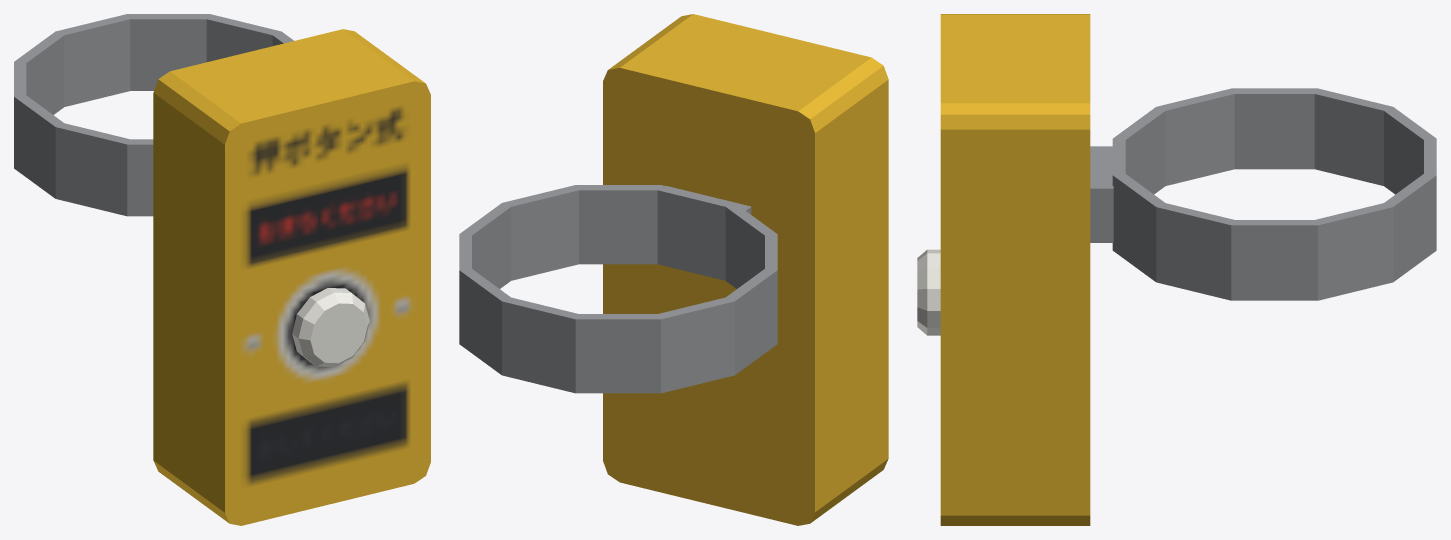
The model's file is SM_Street_PushButton_01.fbx.
3 renders of one model, left to right at view 1: azimuth 30°, elevation 25°; view 2: azimuth 150°, elevation 25°; view 3: azimuth 270°, elevation 25°, orthographic. The views are drawn at different scales.
Parts seen in each view (by area): view 1: SM_Street_PushButton_01; view 2: SM_Street_PushButton_01; view 3: SM_Street_PushButton_01.
Boxes of the visible parts, x1,y1,x2,y2 form: SM_Street_PushButton_01: (14,14,430,525); SM_Street_PushButton_01: (459,14,888,525); SM_Street_PushButton_01: (917,14,1436,525).
Bounding box in the file's own units: 0.1947 × 0.28 × 0.3123.
Materials: 1 (1 with a texture image).
